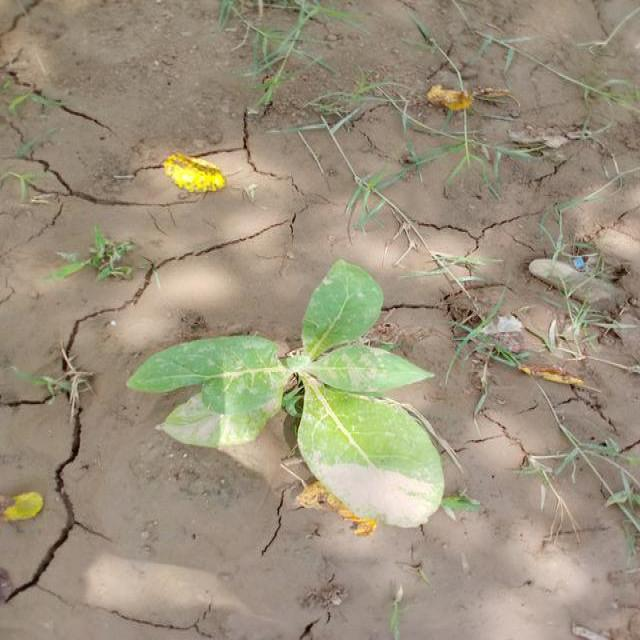crop: (135, 273, 438, 530)
